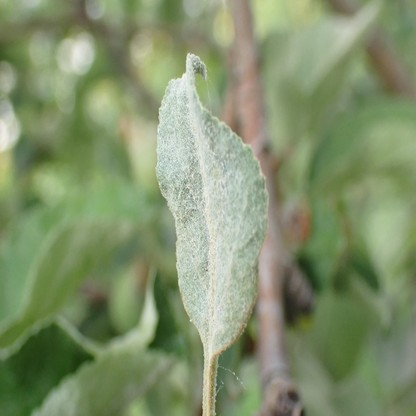powder: (155, 53, 270, 353)
